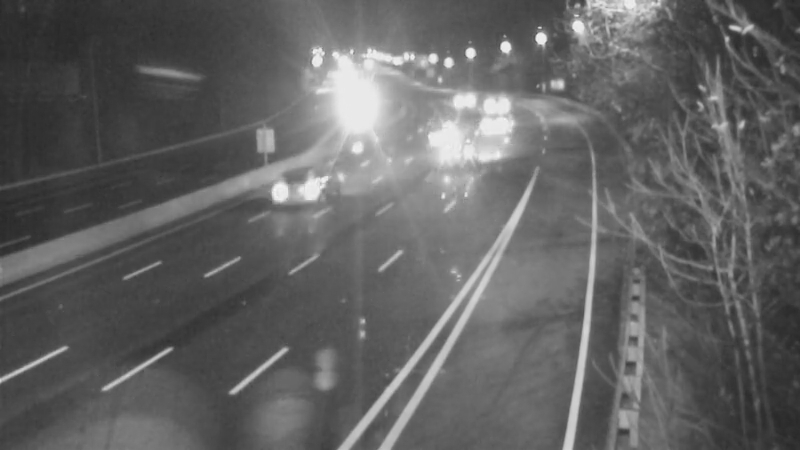vehicle: (419, 120, 499, 200), (258, 149, 338, 229), (431, 72, 481, 122), (464, 79, 514, 129), (471, 98, 521, 148), (425, 107, 475, 157), (332, 87, 382, 137)
